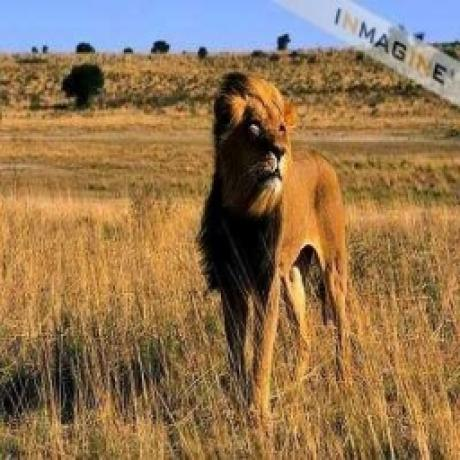Lion: (195, 66, 351, 405)
